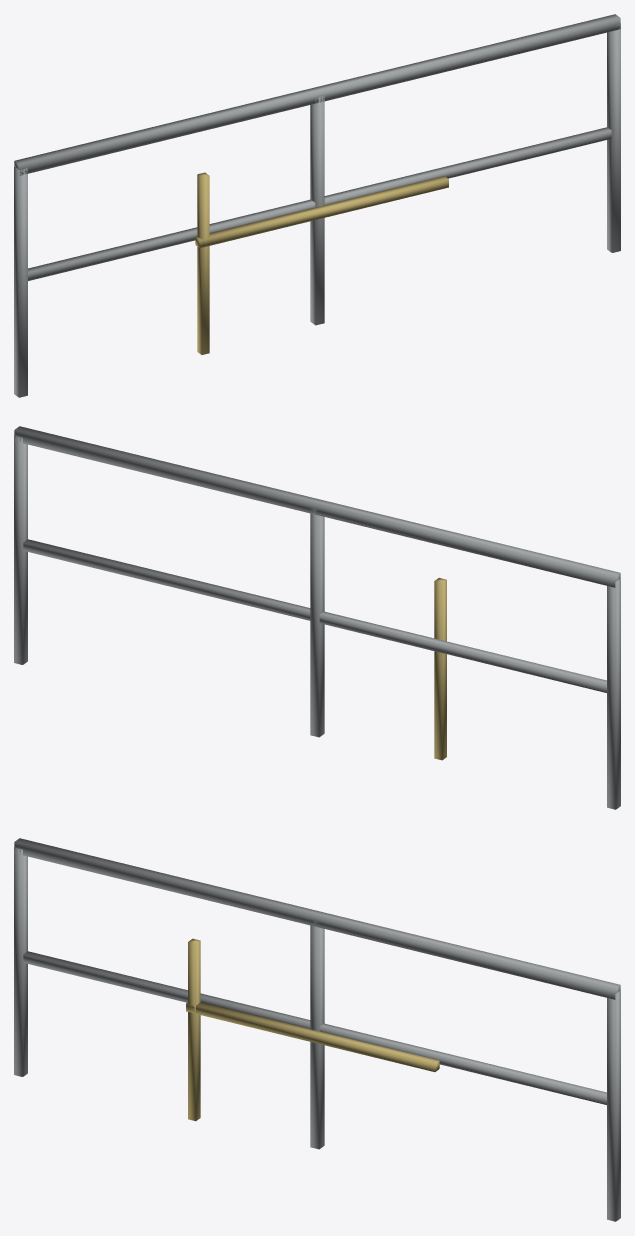
File: residential_gate_l300_h110.glb
3 views of the same model, one above another, from view 1: azimuth 30°, elevation 25°; view 2: azimuth 150°, elevation 25°; view 3: azimuth 330°, elevation 25° (orthographic).
Parts seen in each view (by area): view 1: world; view 2: world; view 3: world.
Boxes of the visible parts, <box> form: world: <box>14,14,620,397</box>; world: <box>14,426,620,809</box>; world: <box>14,838,620,1221</box>.
Bounding box in the file's own units: 3.05 × 1.13 × 0.0825.
